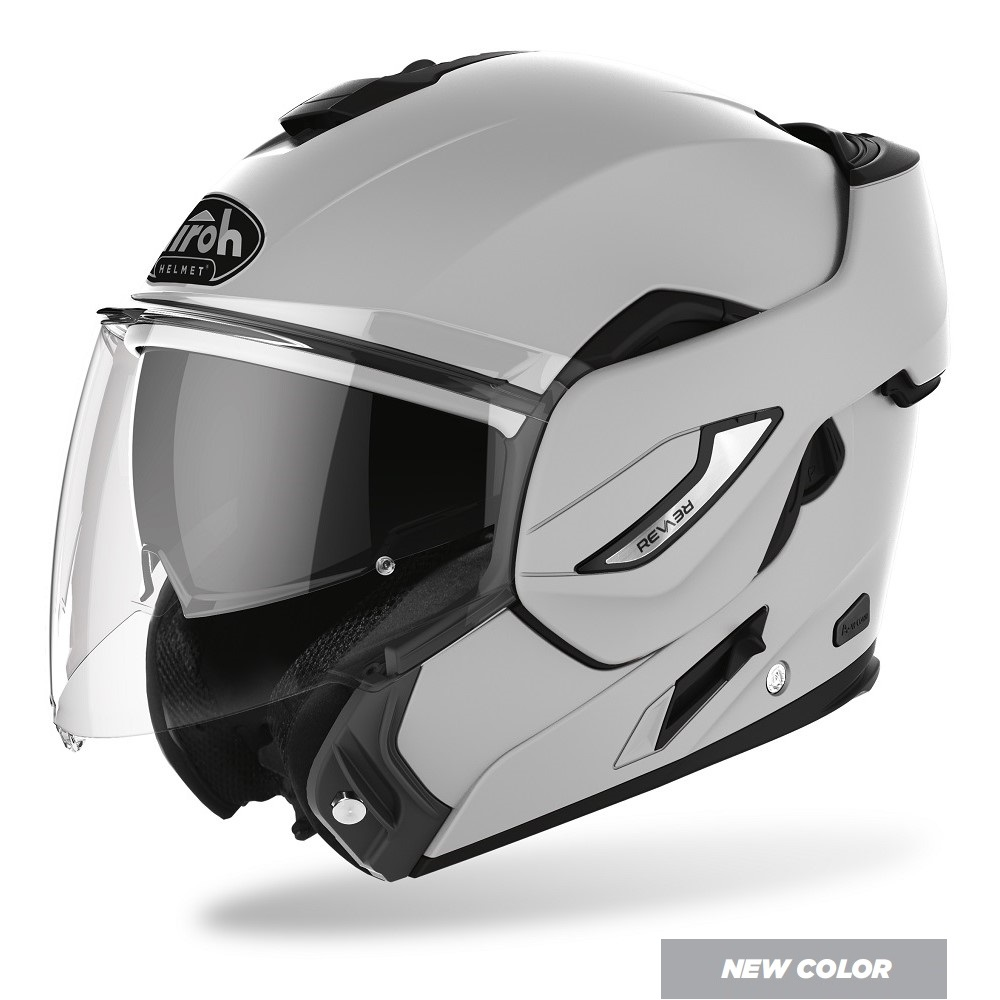helmet: (40, 27, 973, 892)
